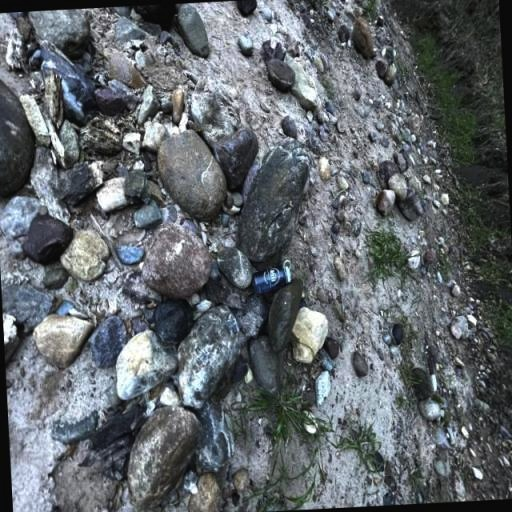bottle: (252, 260, 292, 294)
